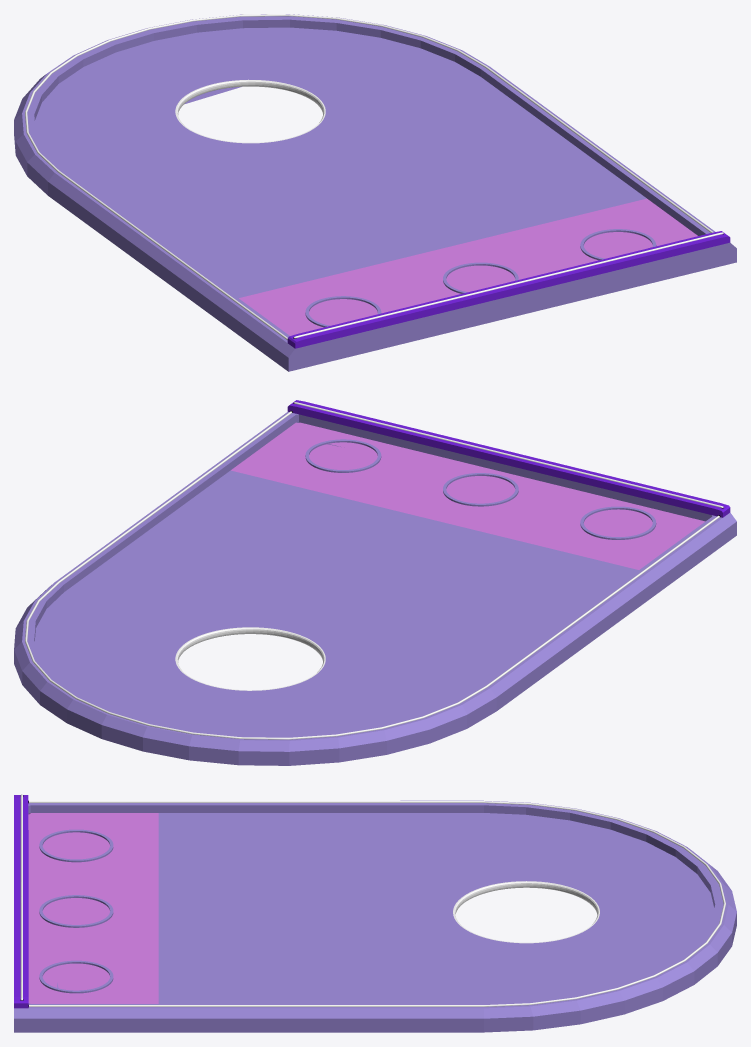
The model's file is Platform 2 - Hole 3.fbx.
The picture shows the model from 3 angles, top to bottom: view 1: azimuth 30°, elevation 25°; view 2: azimuth 150°, elevation 25°; view 3: azimuth 270°, elevation 25°; orthographic projection. The views are drawn at different scales.
Parts seen in each view (by area): view 1: 3HolePlatform-1; view 2: 3HolePlatform-1; view 3: 3HolePlatform-1.
Boxes of the visible parts, left/top/right/bottom form: 3HolePlatform-1: left=14, top=14, right=736, bottom=371; 3HolePlatform-1: left=14, top=400, right=736, bottom=765; 3HolePlatform-1: left=14, top=794, right=736, bottom=1032.
Bounding box in the file's own units: 2498 × 158 × 3568.
